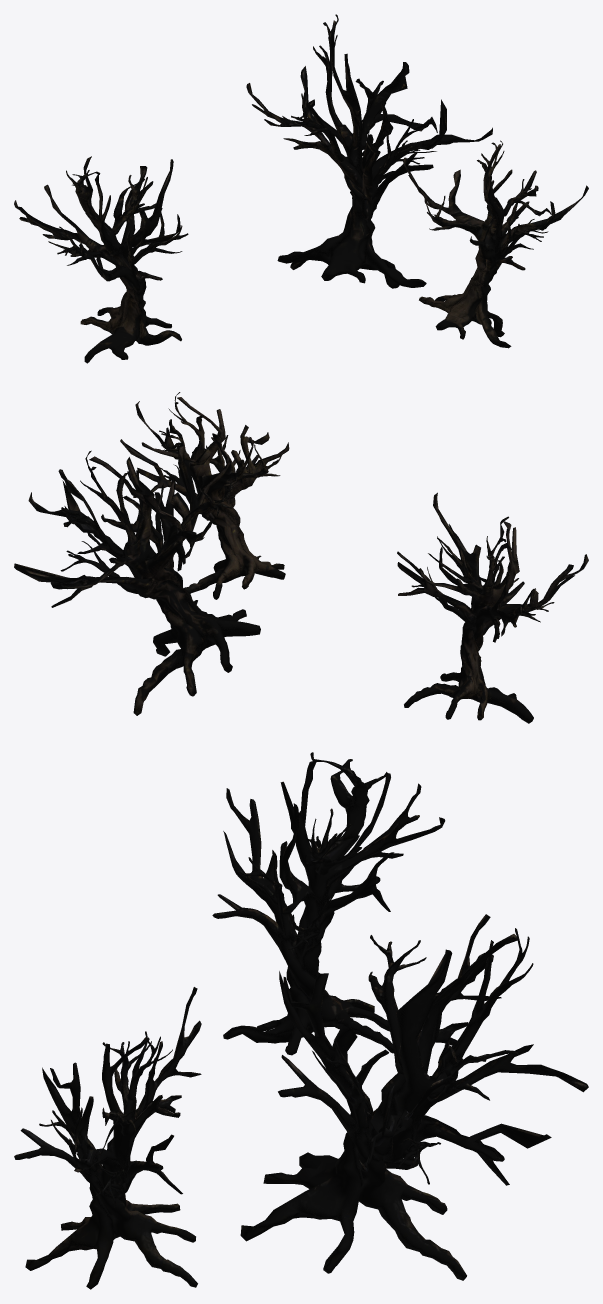
File: trees.glb
3 renders of one model, top to bottom at view 1: azimuth 30°, elevation 25°; view 2: azimuth 150°, elevation 25°; view 3: azimuth 270°, elevation 25°, orthographic. The views are drawn at different scales.
Visible parts, largest first — view 1: Trees; view 2: Trees; view 3: Trees.
Boxes of the visible parts, <box> form: Trees: <box>14,14,588,363</box>; Trees: <box>14,392,588,723</box>; Trees: <box>14,752,588,1289</box>.
Size of the model in its own units: 18.25 by 9.26 by 13.04.
1 material, 1 textured.
